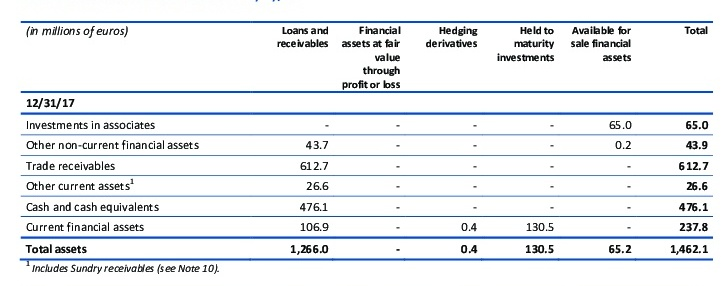table: (0, 0, 727, 286)
